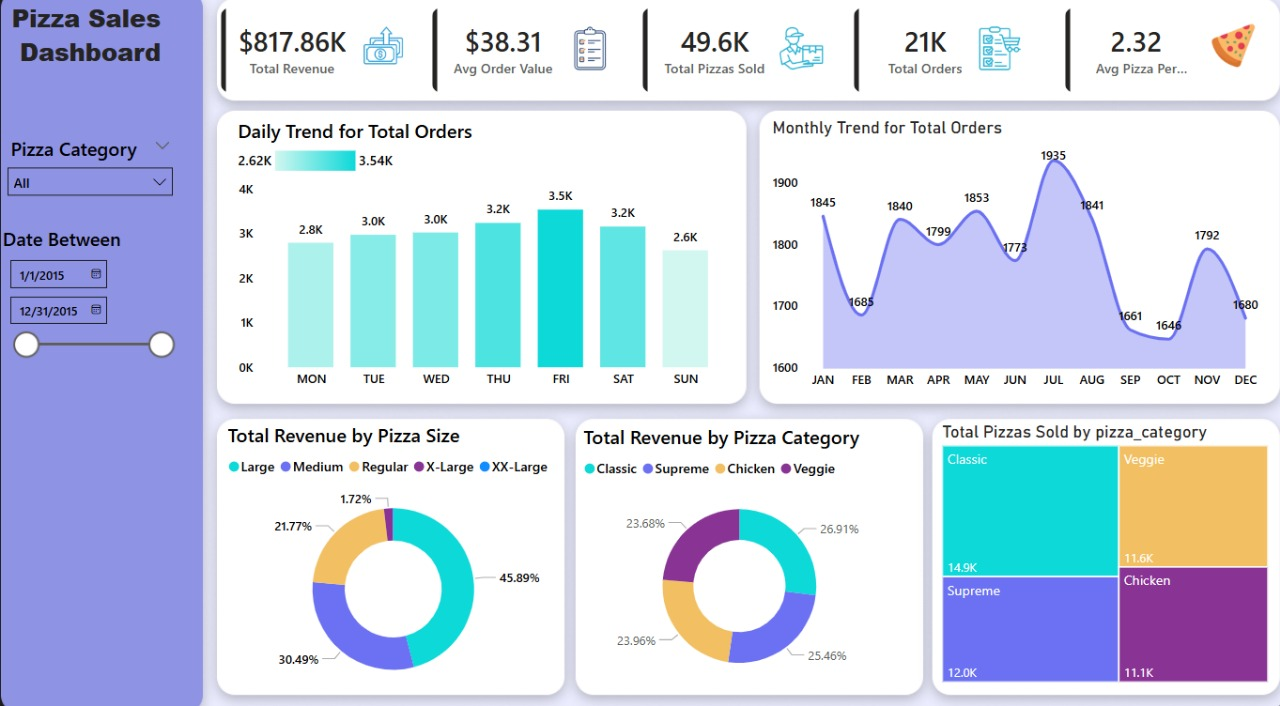

What the dashboard file says about the page in this screenshot:
{"tool":"powerbi","page":{"name":"Dashboard","canvas":[1280,720],"ordinal":0},"visuals":[{"type":"cardVisual","fields":{"Data":["Measures Table.Total_Revenue","Measures Table.avg_order_value","Measures Table.total_pizza_sold","Measures Table.total_orders","Measures Table.avg_pizza_per_order"]},"box":[184,0,1096,104],"z":4},{"type":"columnChart","title":"Daily Trend for Total Orders","fields":{"Y":["Measures Table.Total Orders"],"Category":["public pizza.Order Day"]},"box":[200,104,504,287],"z":5},{"type":"areaChart","title":"Monthly Trend for Total Orders","fields":{"Category":["public pizza.Month Abv"],"Y":["Measures Table.Total Orders"]},"box":[704,101,567,290],"z":6},{"type":"donutChart","title":"Total Revenue by Pizza Category","fields":{"Category":["public pizza.pizza_category"],"Y":["Measures Table.Total Revenue"]},"box":[552,408,320,312],"z":7},{"type":"donutChart","title":"Total Revenue by Pizza Size","fields":{"Y":["Measures Table.Total Revenue"],"Category":["public pizza.pizza_size"]},"box":[207,408,338,312],"z":8},{"type":"treemap","fields":{"Group":["public pizza.pizza_category"],"Values":["Measures Table.Total Pizzas Sold"]},"box":[880,400,400,320],"z":9},{"type":"slicer","fields":{"Values":["public pizza.pizza_category"]},"box":[0,138,184,80],"z":10},{"type":"slicer","title":"Date Between","fields":{"Values":["public pizza.order_date"]},"box":[0,228,184,147],"z":11},{"type":"textbox","box":[0,0,184,101],"z":12}]}

Visuals, with their boxes in screenshot pixels (x1, y1, x2, y2), scaled from the page's 1280x720 canvas onto the 1280x706 screenshot:
cardVisual - Measures Table.Total_Revenue x Measures Table.avg_order_value: 184/0/1279/102
"Daily Trend for Total Orders" columnChart: 200/102/704/383
"Monthly Trend for Total Orders" areaChart: 704/99/1271/383
"Total Revenue by Pizza Category" donutChart: 552/400/872/705
"Total Revenue by Pizza Size" donutChart: 207/400/545/705
treemap - public pizza.pizza_category x Measures Table.Total Pizzas Sold: 880/392/1279/705
slicer - public pizza.pizza_category: 0/135/184/214
"Date Between" slicer: 0/224/184/368
textbox: 0/0/184/99
